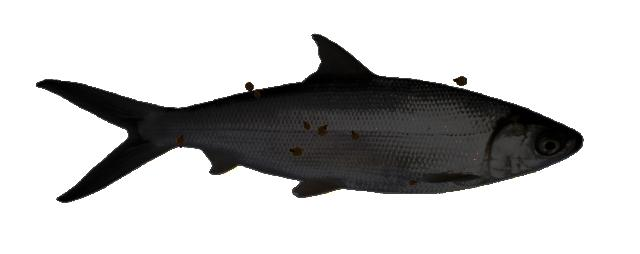Parasitic Disease: (37, 35, 582, 201)
